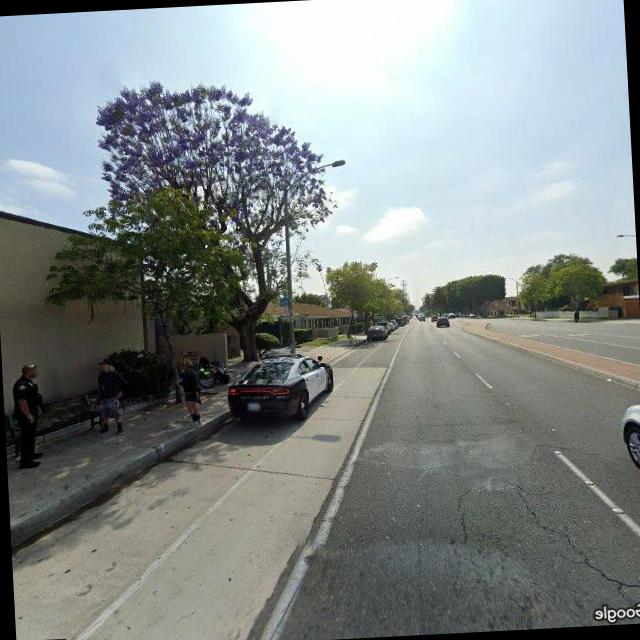pothole: (502, 472, 640, 607), (452, 483, 479, 544)
